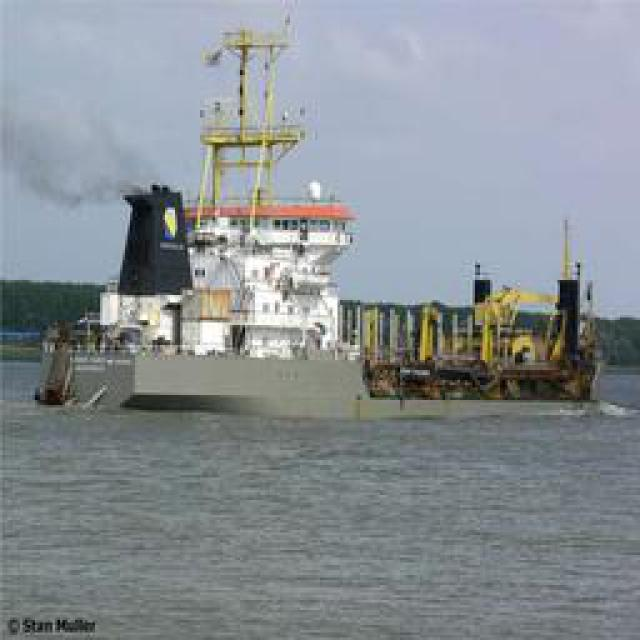Ship: (124, 13, 377, 411)
